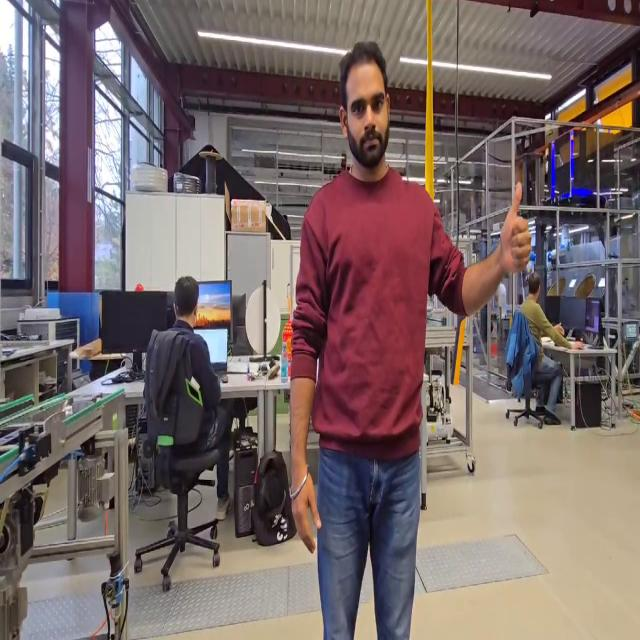thumbs_up: (496, 176, 535, 282)
